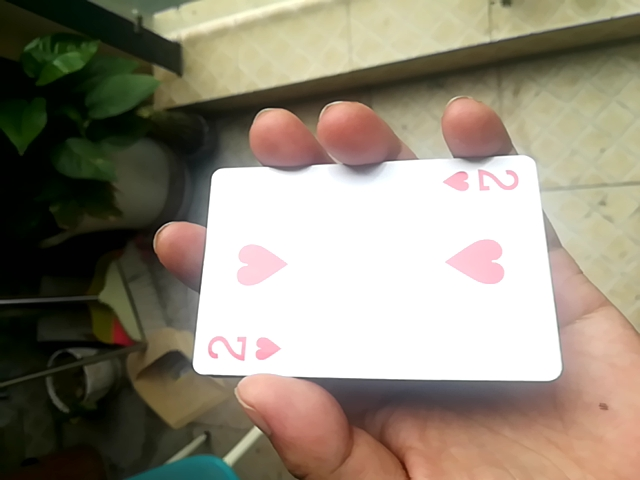hx 2: (184, 152, 573, 376)
